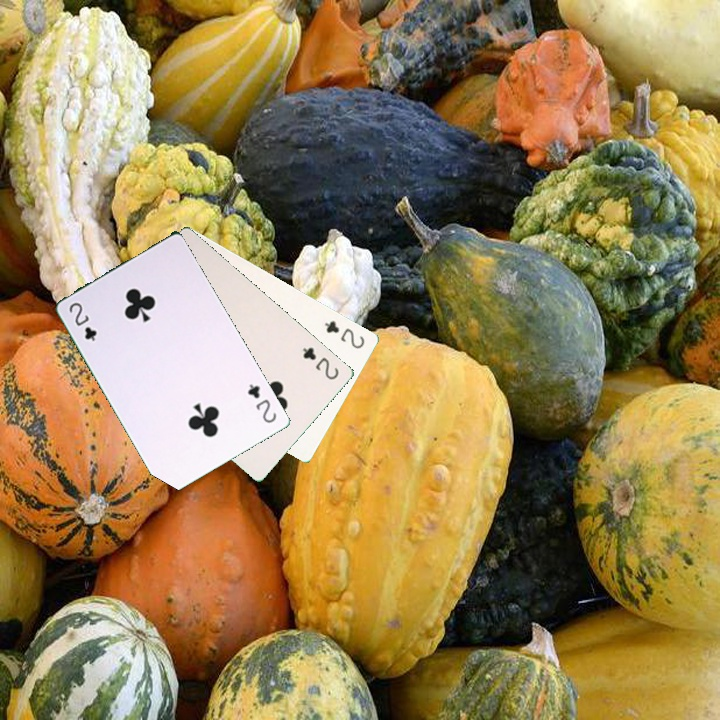2c: (298, 343, 342, 383), (243, 380, 279, 426), (320, 316, 367, 351), (65, 298, 100, 344)
